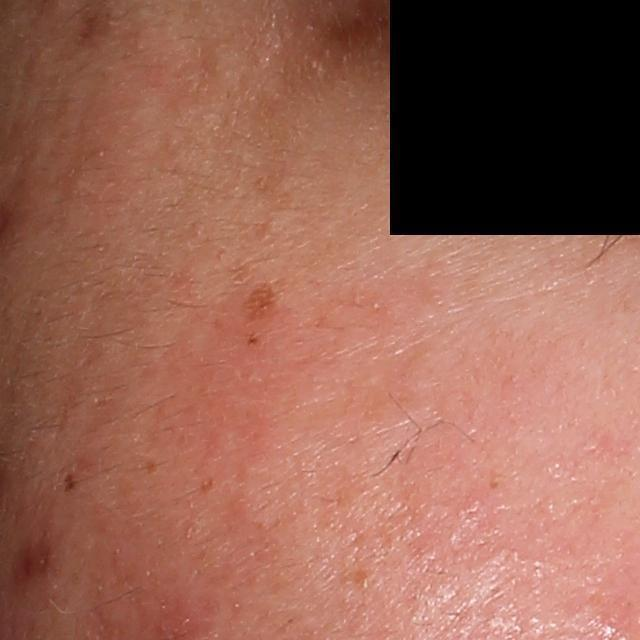melasma: (240, 279, 283, 320), (245, 329, 259, 346)
